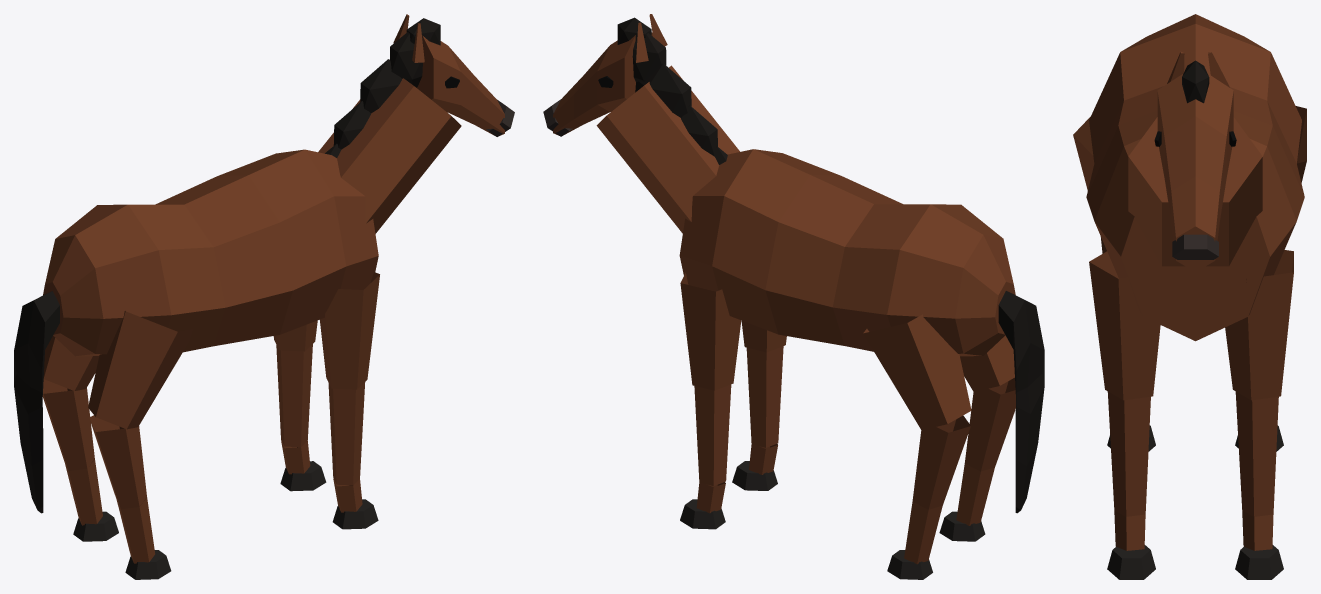
Rendered from caballo.obj.
3 renders of one model, left to right at view 1: azimuth 30°, elevation 25°; view 2: azimuth 150°, elevation 25°; view 3: azimuth 270°, elevation 25°, orthographic. The views are drawn at different scales.
Parts seen in each view (by area): view 1: Tronco, Pata_TD, Pata_DD, Pata_TI, Pata_DI; view 2: Tronco, Pata_TI, Pata_DI, Pata_TD, Pata_DD; view 3: Tronco, Pata_DD, Pata_DI, Pata_TD, Pata_TI.
Boxes of the visible parts, bbox=[...] form: Tronco: bbox=[14, 14, 514, 513]; Pata_TD: bbox=[88, 311, 192, 579]; Pata_DD: bbox=[320, 272, 379, 529]; Pata_TI: bbox=[42, 336, 118, 541]; Pata_DI: bbox=[273, 320, 326, 491]; Tronco: bbox=[543, 14, 1044, 513]; Pata_TI: bbox=[863, 314, 971, 579]; Pata_DI: bbox=[680, 272, 741, 529]; Pata_TD: bbox=[939, 335, 1015, 541]; Pata_DD: bbox=[732, 320, 786, 490]; Tronco: bbox=[1086, 14, 1304, 341]; Pata_DD: bbox=[1089, 251, 1160, 579]; Pata_DI: bbox=[1225, 250, 1293, 579]; Pata_TD: bbox=[1073, 117, 1155, 451]; Pata_TI: bbox=[1235, 106, 1306, 451].
Size of the model in its own units: 2.56 by 2.35 by 0.878.
